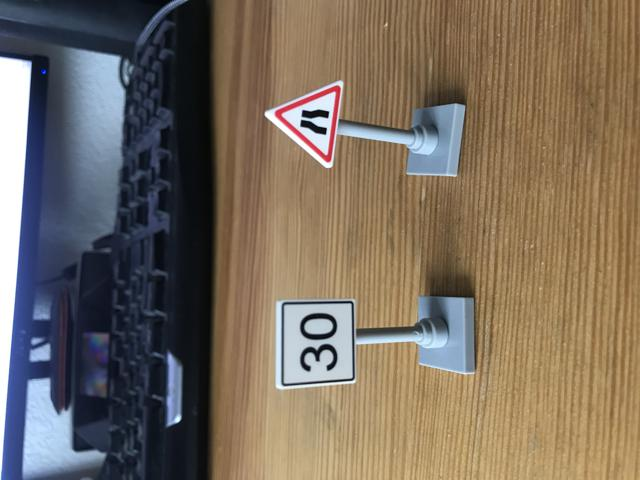tempolimit 30: (118, 74, 245, 222)
verengte fahrbahn: (414, 53, 539, 195)
